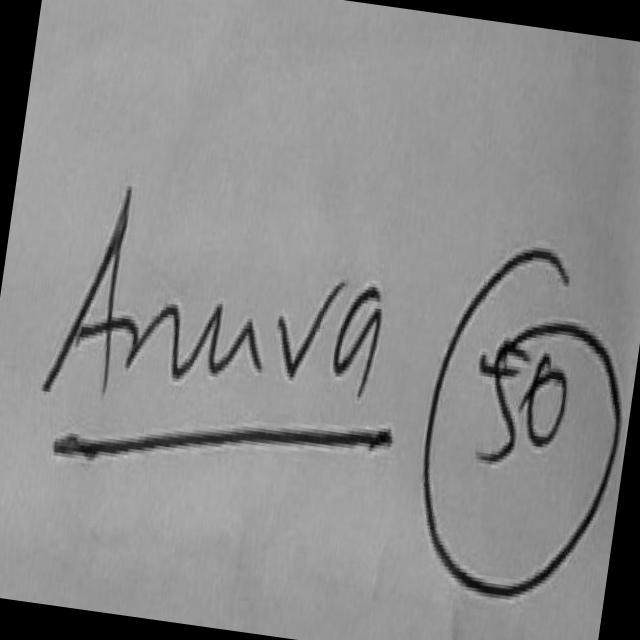0: (515, 333, 583, 470)
5: (458, 314, 536, 498)
A: (42, 134, 144, 424)
a: (323, 240, 402, 416)
n: (110, 270, 206, 406)
u: (198, 270, 276, 409)
v: (266, 252, 350, 414)
